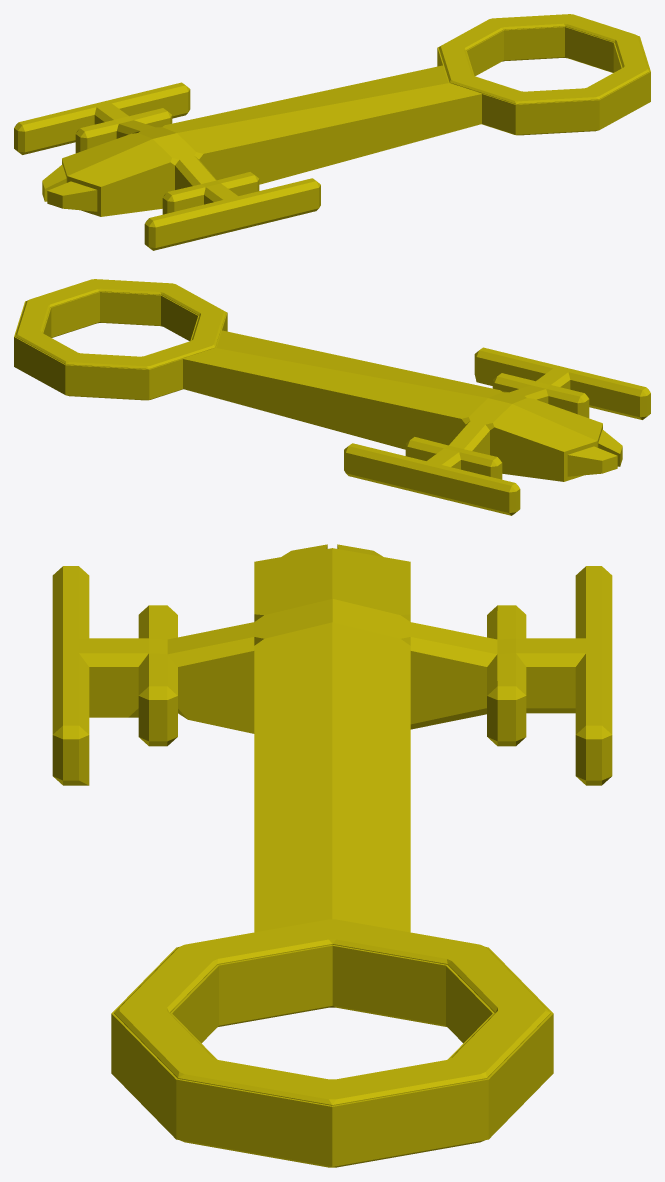
File: anahtar.fbx
The picture shows the model from 3 angles, top to bottom: view 1: azimuth 30°, elevation 25°; view 2: azimuth 150°, elevation 25°; view 3: azimuth 270°, elevation 25°; orthographic projection. The views are drawn at different scales.
Parts seen in each view (by area): view 1: Cylinder; view 2: Cylinder; view 3: Cylinder.
Part boxes in pixels (x1,y1,x2,y2): Cylinder: (14, 14, 650, 250); Cylinder: (14, 279, 650, 515); Cylinder: (52, 544, 612, 1167).
Size of the model in its own units: 315 by 31.76 by 128.
